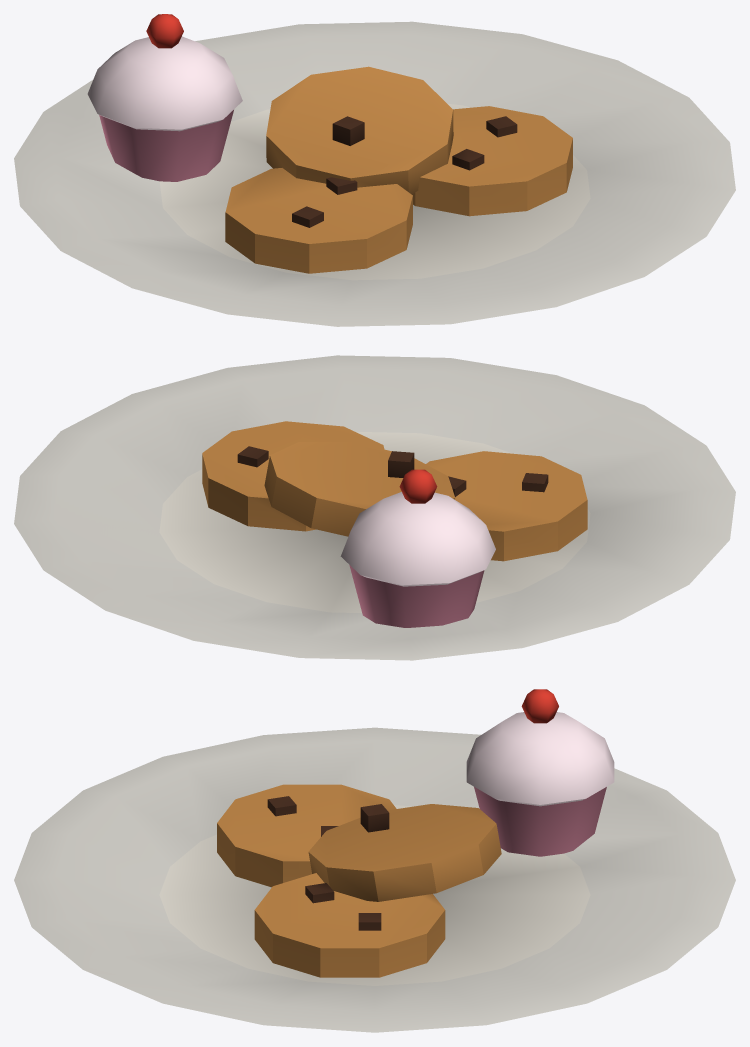
The model's file is treatPlate.glb.
The picture shows the model from 3 angles, top to bottom: view 1: azimuth 30°, elevation 25°; view 2: azimuth 150°, elevation 25°; view 3: azimuth 270°, elevation 25°; orthographic projection.
Parts seen in each view (by area): view 1: treatPlate; view 2: treatPlate; view 3: treatPlate.
Part boxes in pixels (left/top/right/bottom): treatPlate: left=14, top=14, right=735, bottom=326; treatPlate: left=14, top=355, right=735, bottom=660; treatPlate: left=14, top=689, right=735, bottom=1032.
Size of the model in its own units: 0.288 by 0.0725 by 0.288.
